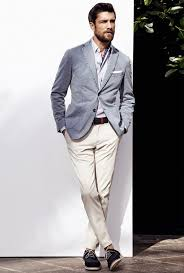F_M_suit jacket: (53, 47, 137, 135)
F_belt: (81, 114, 121, 128)
